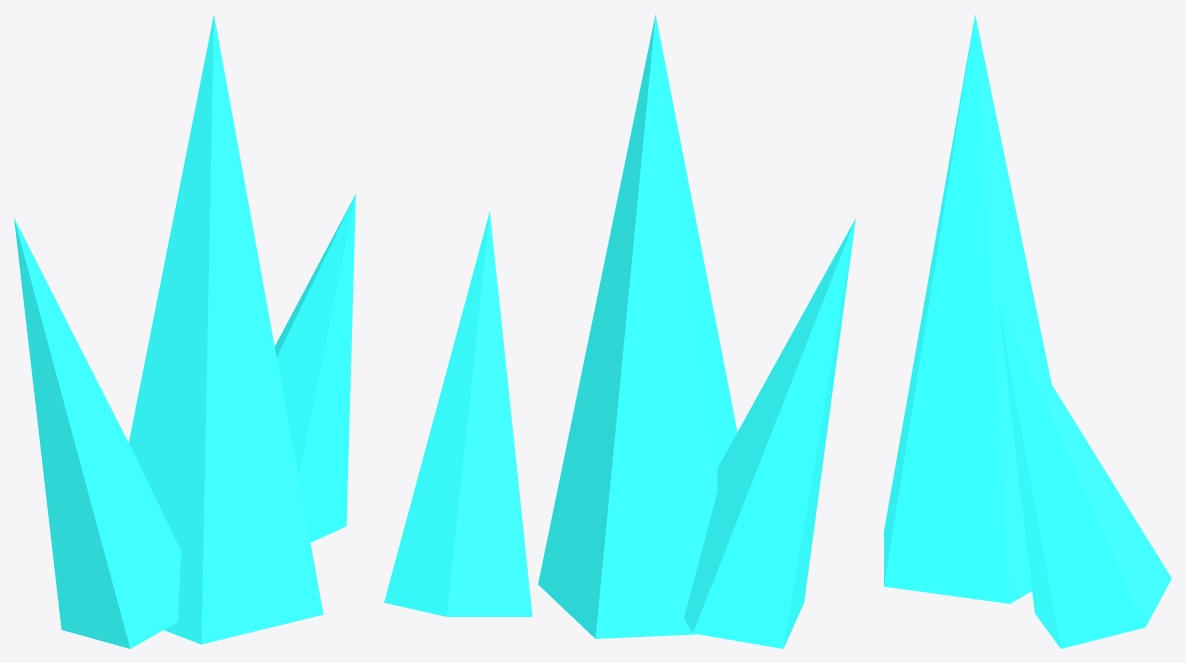
File: crystal_cluster.glb
3 views of the same model, side by side, from view 1: azimuth 30°, elevation 25°; view 2: azimuth 150°, elevation 25°; view 3: azimuth 270°, elevation 25° (orthographic). The views are drawn at different scales.
Visible parts, largest first — view 1: crystal_cluster; view 2: crystal_cluster; view 3: crystal_cluster.
Part boxes in pixels (x1=…): crystal_cluster: x1=14, y1=15, x2=355, y2=648; crystal_cluster: x1=384, y1=15, x2=855, y2=648; crystal_cluster: x1=884, y1=14, x2=1171, y2=648.
Bounding box in the file's own units: 0.549 × 0.8147 × 0.3832.
